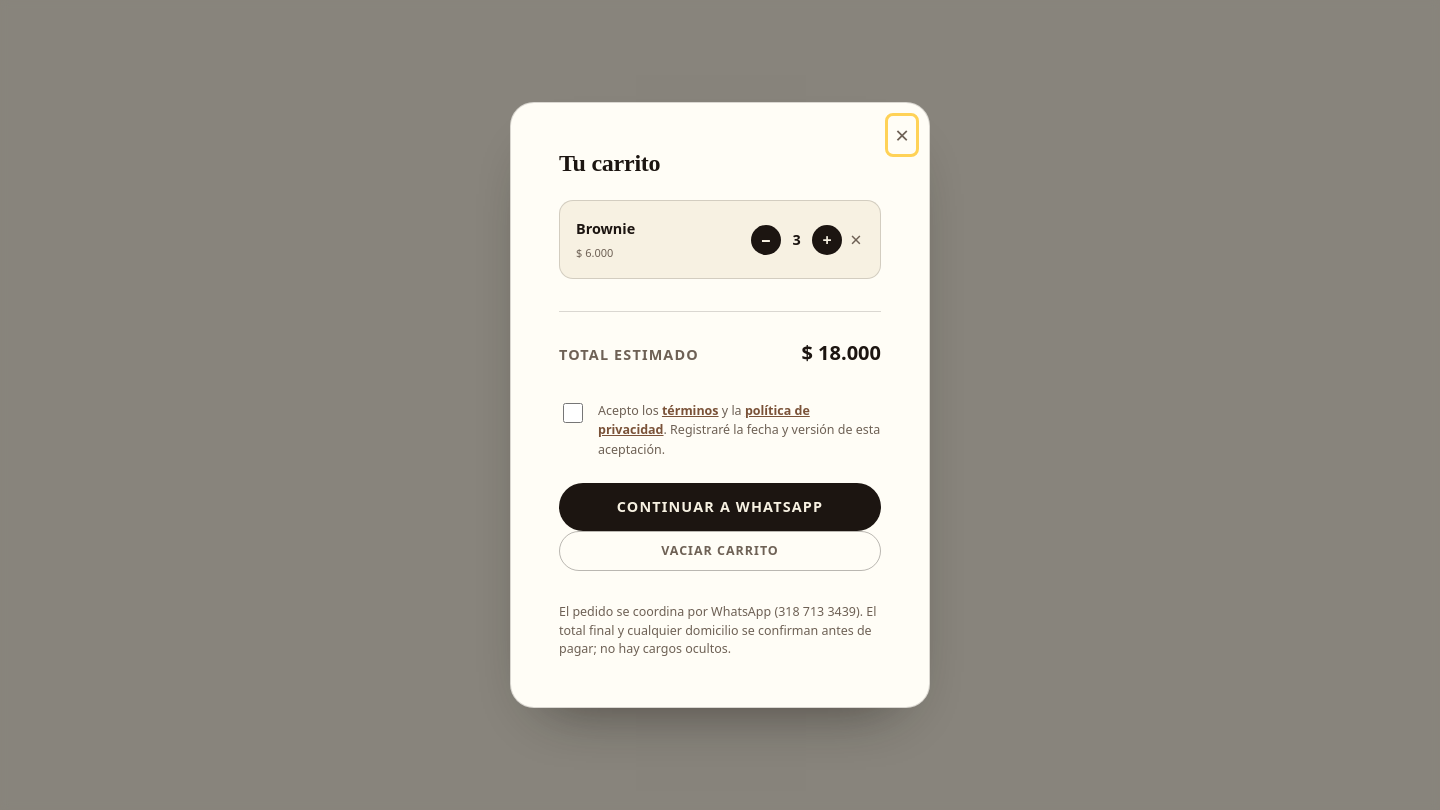
Scenario: CartDrawer › vacia el carrito con el boton correspondiente
This screenshot has width=1440, height=810.
Click the button "Vaciar carrito" at [720, 551], box [559,531,881,571]
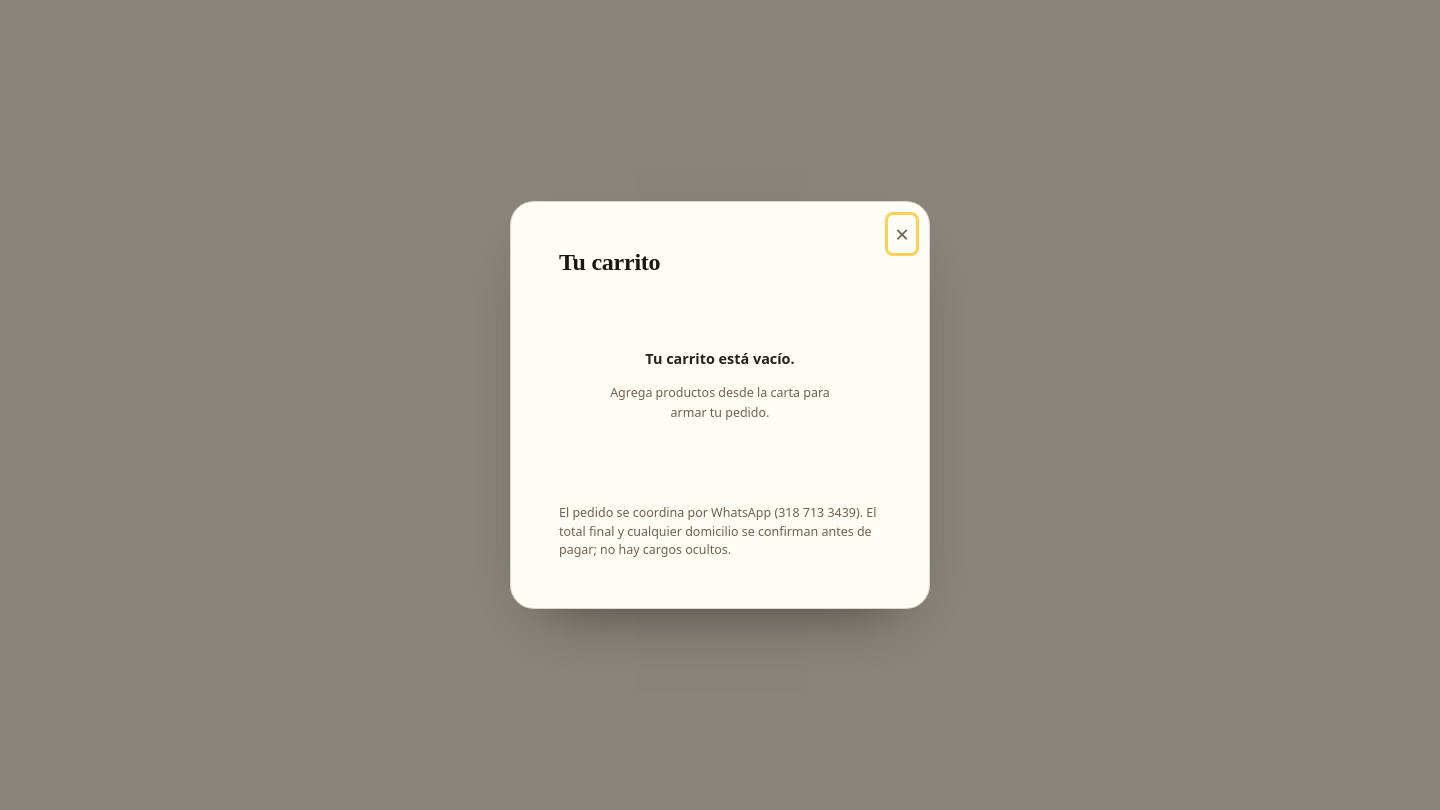
Check: the text "Tu carrito está vacío." is shown, box [645,347,795,371]
